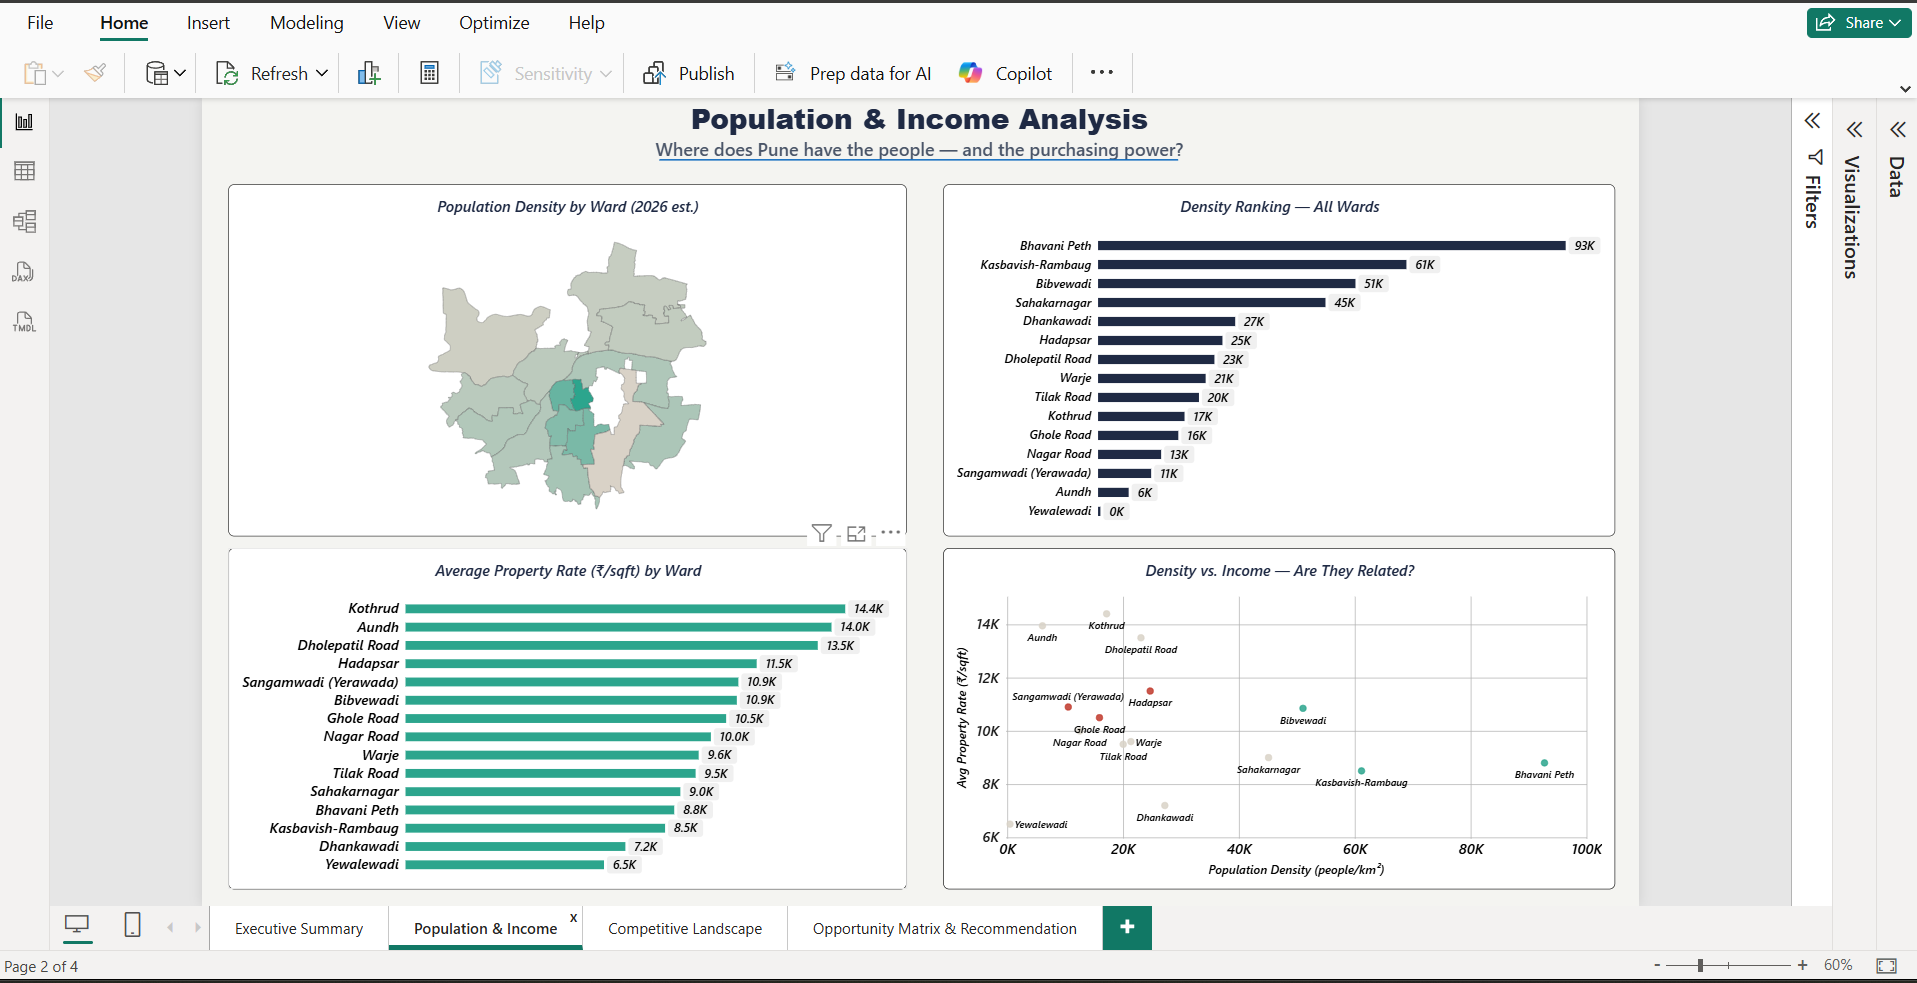

This screenshot's page, from the dashboard's own definition file:
{"tool":"powerbi","page":{"name":"Population & Income","canvas":[1920,1080],"ordinal":1},"visuals":[{"type":"textbox","box":[334.8,0,1248.8,103.6],"z":0},{"type":"shape","box":[611.7,61.5,693.1,41.6],"z":1000},{"type":"shapeMap","title":"Population Density by Ward (2026 est.)","fields":{"Category":["pune_market_entry_final.Ward Name"],"Value":["Sum(pune_market_entry_final.density_2026_est_per_km2)"]},"box":[34.4,115.8,906.6,470.5],"z":2000},{"type":"clusteredBarChart","title":"Density Ranking — All Wards","fields":{"Category":["pune_market_entry_final.Ward Name"],"Y":["Sum(pune_market_entry_final.density_2026_est_per_km2)"]},"box":[989.9,115.8,897.6,470.5],"z":3000},{"type":"clusteredBarChart","title":"Average Property Rate (₹/sqft) by Ward","fields":{"Y":["Sum(pune_market_entry_final.avg_property_rate_rs_sqft)"],"Category":["pune_market_entry_final.Ward Name"]},"box":[34.4,600.8,906.6,456],"z":4000},{"type":"scatterChart","title":"Density vs. Income — Are They Related?","fields":{"X":["Sum(pune_market_entry_final.density_2026_est_per_km2)"],"Y":["Sum(pune_market_entry_final.avg_property_rate_rs_sqft)"],"Series":["pune_market_entry_final.Ward Name"]},"box":[989.9,600.8,897.6,456],"z":5000}]}

Visuals, with their boxes on the page's 1920x1080 design canvas (x1, y1, x2, y2). These are canvas units, not pixel positions in the 1917x983 screenshot, which may show the page scaled, cropped or inside an application window:
textbox: <region>335, 0, 1584, 104</region>
shape: <region>612, 62, 1305, 103</region>
"Population Density by Ward (2026 est.)" shapeMap: <region>34, 116, 941, 586</region>
"Density Ranking — All Wards" clusteredBarChart: <region>990, 116, 1888, 586</region>
"Average Property Rate (₹/sqft) by Ward" clusteredBarChart: <region>34, 601, 941, 1057</region>
"Density vs. Income — Are They Related?" scatterChart: <region>990, 601, 1888, 1057</region>
